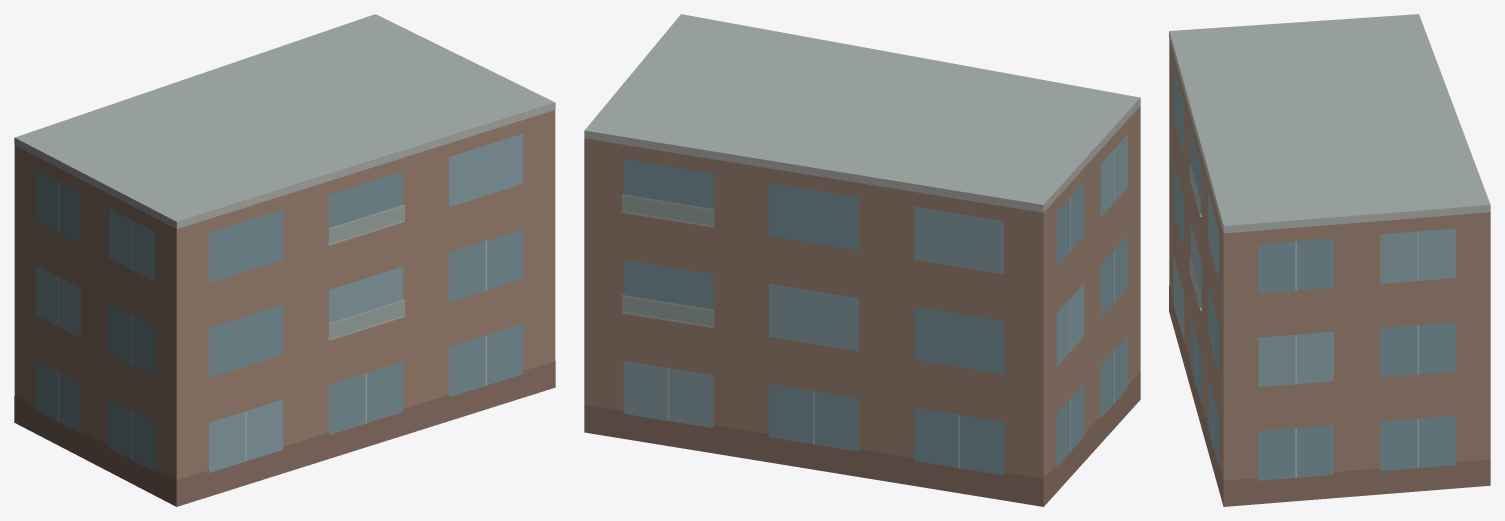
The model's file is survey-upis-32734809.glb.
3 views of the same model, side by side, from view 1: azimuth 30°, elevation 25°; view 2: azimuth 150°, elevation 25°; view 3: azimuth 270°, elevation 25° (orthographic). The views are drawn at different scales.
Parts seen in each view (by area): view 1: survey-upis-32734809.tmp; view 2: survey-upis-32734809.tmp; view 3: survey-upis-32734809.tmp.
Part boxes in pixels (left/top/right/bottom): survey-upis-32734809.tmp: left=14, top=14, right=555, bottom=506; survey-upis-32734809.tmp: left=584, top=14, right=1140, bottom=506; survey-upis-32734809.tmp: left=1169, top=14, right=1490, bottom=506.
Bounding box in the file's own units: 15.25 × 9.4 × 9.77.
